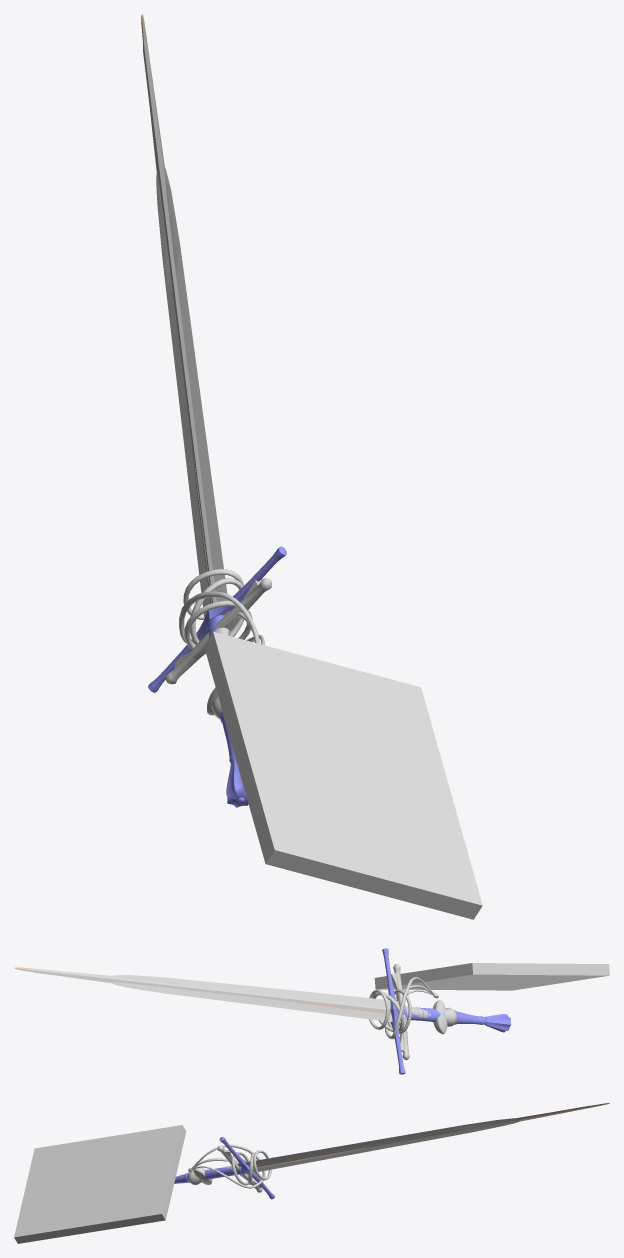
The model's file is Swords test.fbx.
The picture shows the model from 3 angles, top to bottom: view 1: azimuth 30°, elevation 25°; view 2: azimuth 150°, elevation 25°; view 3: azimuth 270°, elevation 25°; orthographic projection. The views are drawn at different scales.
Parts seen in each view (by area): view 1: Shield Test, 1h_Sword, Rapier, 2h_sword; view 2: Shield Test, 1h_Sword, Rapier, 2h_sword; view 3: Shield Test, 1h_Sword, 2h_sword, Rapier.
Boxes of the visible parts, box(x1,y1,x2,y2) form: Shield Test: box(204, 631, 482, 919); 1h_Sword: box(156, 167, 259, 715); Rapier: box(142, 31, 271, 719); 2h_sword: box(141, 14, 286, 807); Shield Test: box(374, 963, 609, 990); 1h_Sword: box(110, 973, 447, 1051); Rapier: box(25, 964, 457, 1060); 2h_sword: box(14, 948, 511, 1074); Shield Test: box(14, 1125, 186, 1243); 1h_Sword: box(193, 1118, 519, 1188); 2h_sword: box(174, 1103, 609, 1199); Rapier: box(188, 1105, 590, 1192).
Size of the model in its own units: 71.51 by 62.36 by 165.
